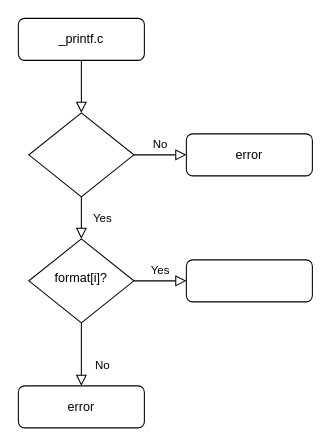
The diagram is 331 pixels wide and 446 high, and some of its shapes have lost their labels. The box of each missing label's shape, as (x1, y1, x2, y2) in pixels:
Find % (format specifier): (185, 259, 312, 302)
format ?: (28, 112, 134, 197)
